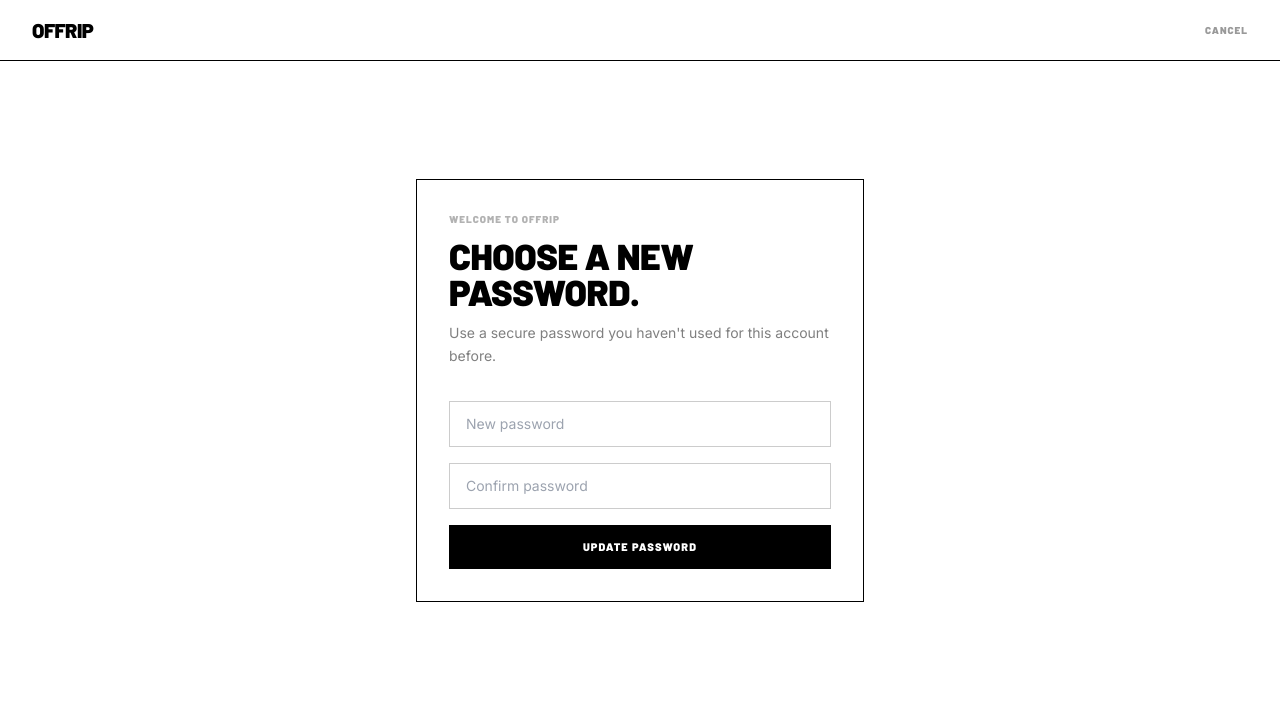
Test case: reset password › rejects a password below the shared eight-character minimum
In the password field labelled "New password": x=640, y=424 top-left (449, 400), bottom-right (831, 446), type "short7"
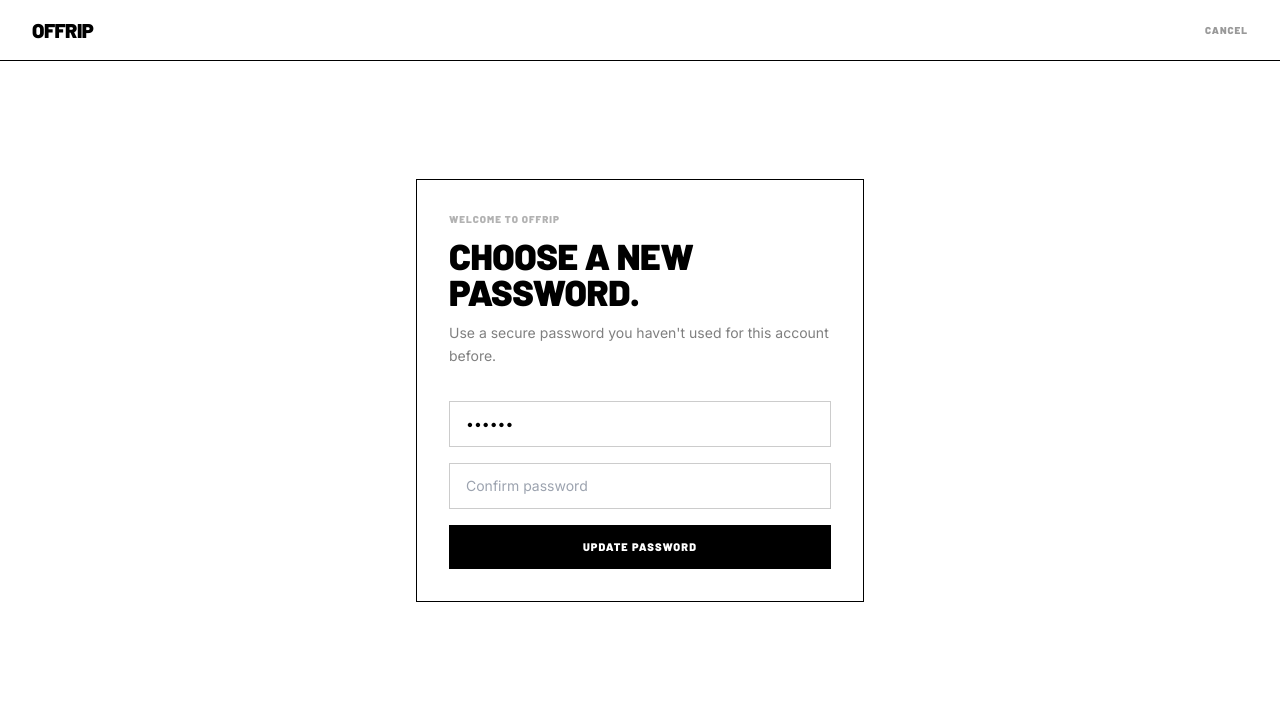
In the password field labelled "Confirm password": x=640, y=486 top-left (449, 462), bottom-right (831, 508), type "short7"
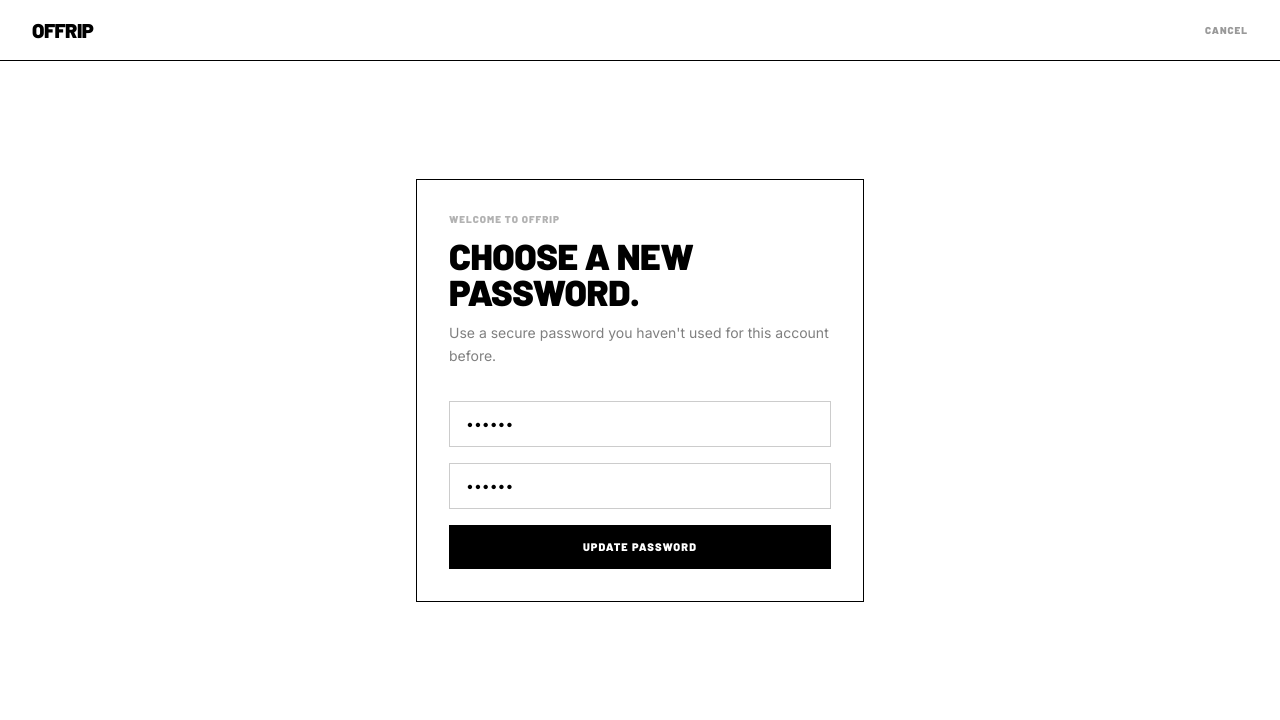
Submit the form "Update password", box top-left (449, 400), bottom-right (831, 569)
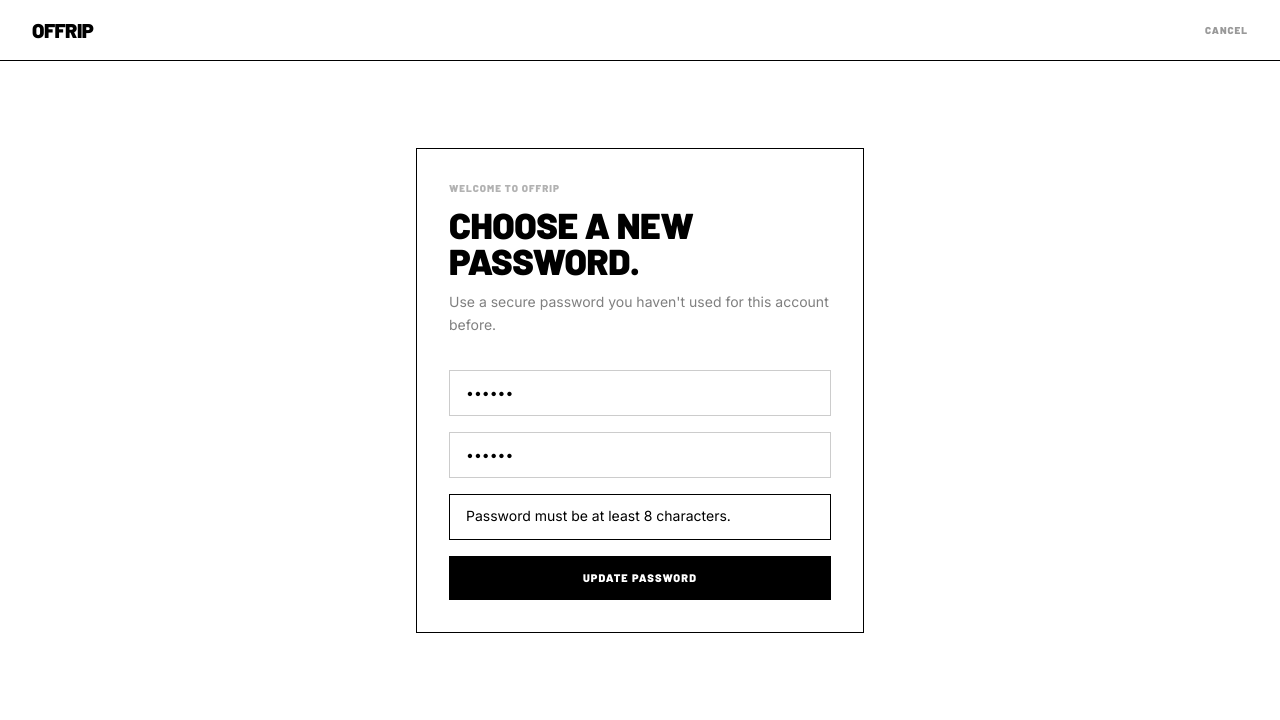
Result: the message reads "Password must be at least 8 characters." at top-left (466, 508), bottom-right (731, 524)
